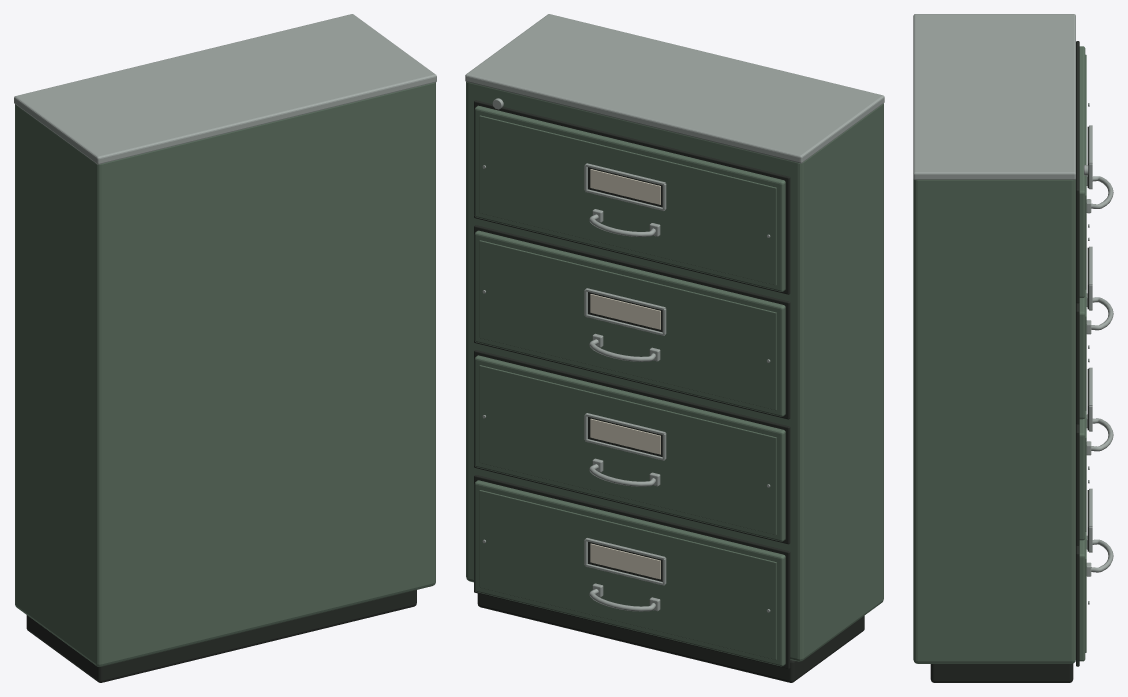
File: A17_Cabinet.fbx
3 views of the same model, side by side, from view 1: azimuth 30°, elevation 25°; view 2: azimuth 150°, elevation 25°; view 3: azimuth 270°, elevation 25° (orthographic). The views are drawn at different scales.
Visible parts, largest first — view 1: Cabinet_Green, Cabinet_Steel, Cabinet_Rubber; view 2: Cabinet_Green, Cabinet_Steel, Cabinet_Rubber, Cabinet_Paper; view 3: Cabinet_Green, Cabinet_Steel, Cabinet_Rubber.
Part boxes in pixels (box(x1,y1,x2,y2)): Cabinet_Green: box(15, 82, 435, 666); Cabinet_Steel: box(14, 14, 436, 164); Cabinet_Rubber: box(26, 590, 416, 682); Cabinet_Green: box(466, 82, 883, 666); Cabinet_Steel: box(465, 14, 884, 612); Cabinet_Rubber: box(474, 100, 864, 682); Cabinet_Paper: box(590, 169, 660, 579); Cabinet_Green: box(913, 46, 1086, 663); Cabinet_Steel: box(913, 14, 1113, 604); Cabinet_Rubber: box(930, 41, 1088, 682).
Size of the model in its own units: 130 by 196 by 68.92.
